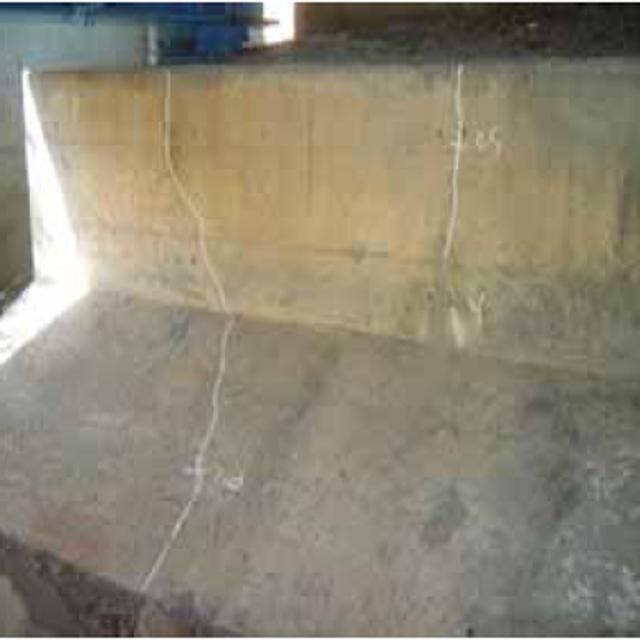crack: (154, 79, 233, 592), (440, 56, 476, 301)
